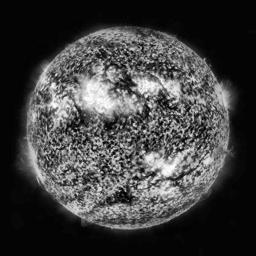solar flares: (76, 81, 115, 115), (46, 90, 73, 124), (135, 78, 159, 96), (161, 79, 179, 100), (145, 150, 159, 170), (160, 163, 173, 176)
sunspots: (108, 64, 133, 93), (108, 187, 136, 207), (146, 60, 178, 77), (134, 27, 160, 45), (154, 94, 175, 113), (67, 115, 90, 132), (103, 119, 119, 137), (95, 49, 108, 64)
